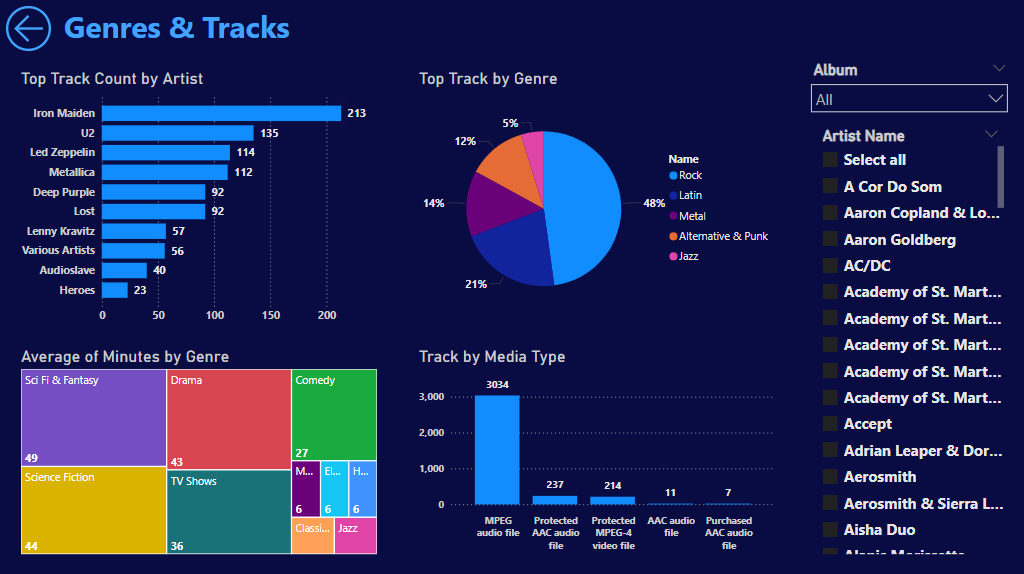

The page's visual inventory and layout, read from the dashboard file:
{"tool":"powerbi","page":{"name":"Genres & Tracks","canvas":[1280,720],"ordinal":5},"visuals":[{"type":"pieChart","title":"Top Track by Genre","fields":{"Category":["Genre.Name"],"Y":["Track.TrackId"]},"box":[518.8,86.2,455,326.2],"z":0},{"type":"treemap","title":"Average of Minutes by Genre","fields":{"Group":["Genre.Name"],"Values":["Track.Minutes"]},"box":[21.2,433.8,455,263.8],"z":1000},{"type":"columnChart","title":"Track by Media Type","fields":{"Category":["MediaType.Name"],"Y":["Track.TrackId"]},"box":[518.8,433.8,455,263.8],"z":2000},{"type":"slicer","fields":{"Values":["Album.Title"]},"box":[1003.8,71.2,266.2,82.5],"z":3000},{"type":"slicer","fields":{"Values":["Artist.Name"]},"box":[1015,153.8,245,543.8],"z":4000},{"type":"barChart","title":"Top Track Count by Artist","fields":{"Category":["Artist.Name"],"Y":["Track.TrackId"]},"box":[21.2,86.2,455,326.2],"z":5000},{"type":"actionButton","box":[0,0,71.2,71.2],"z":6000},{"type":"textbox","box":[75,2.5,308.8,68.8],"z":7000}]}

Visuals, with their boxes in screenshot pixels (x1, y1, x2, y2), scaled from the page's 1280x720 canvas onto the 1024x574 screenshot:
"Top Track by Genre" pieChart: bbox=(415, 69, 779, 329)
"Average of Minutes by Genre" treemap: bbox=(17, 346, 381, 556)
"Track by Media Type" columnChart: bbox=(415, 346, 779, 556)
slicer - Album.Title: bbox=(803, 57, 1016, 123)
slicer - Artist.Name: bbox=(812, 123, 1008, 556)
"Top Track Count by Artist" barChart: bbox=(17, 69, 381, 329)
actionButton: bbox=(0, 0, 57, 57)
textbox: bbox=(60, 2, 307, 57)
